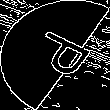P_SE: (17, 26, 93, 84)
